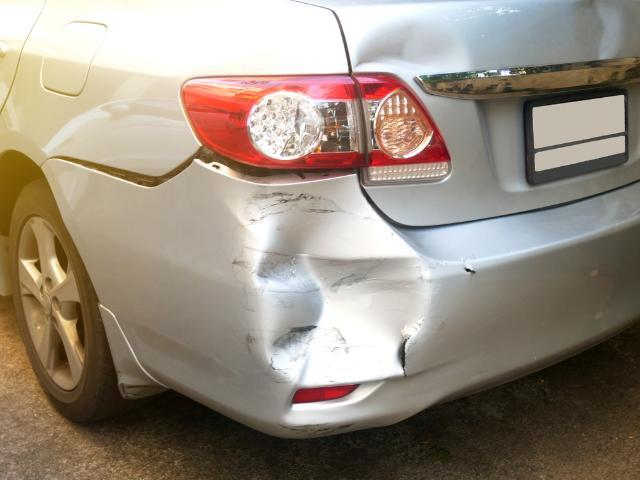crack: (399, 338, 412, 381), (462, 266, 477, 276)
dent: (246, 180, 429, 389), (355, 20, 473, 74), (569, 0, 623, 61)
scratch: (282, 424, 360, 439)
